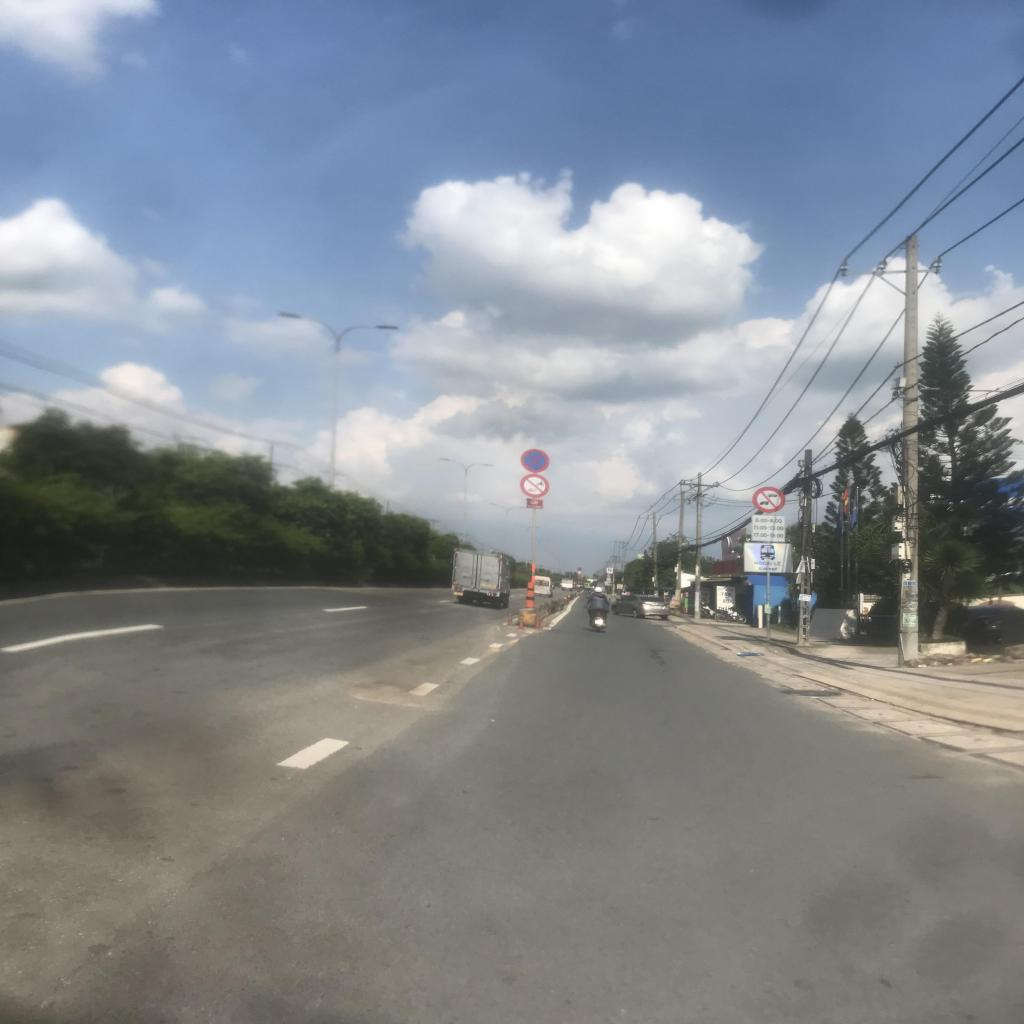cam_dung_xe_va_do_xe: (521, 449, 550, 473)
cam_o_to_tai_va_xe_khach: (752, 487, 785, 513)
cam_xe_2_banh_va_xe_3_banh_co_dong_co: (520, 474, 550, 497)
khac: (744, 543, 792, 572), (750, 514, 785, 542)
